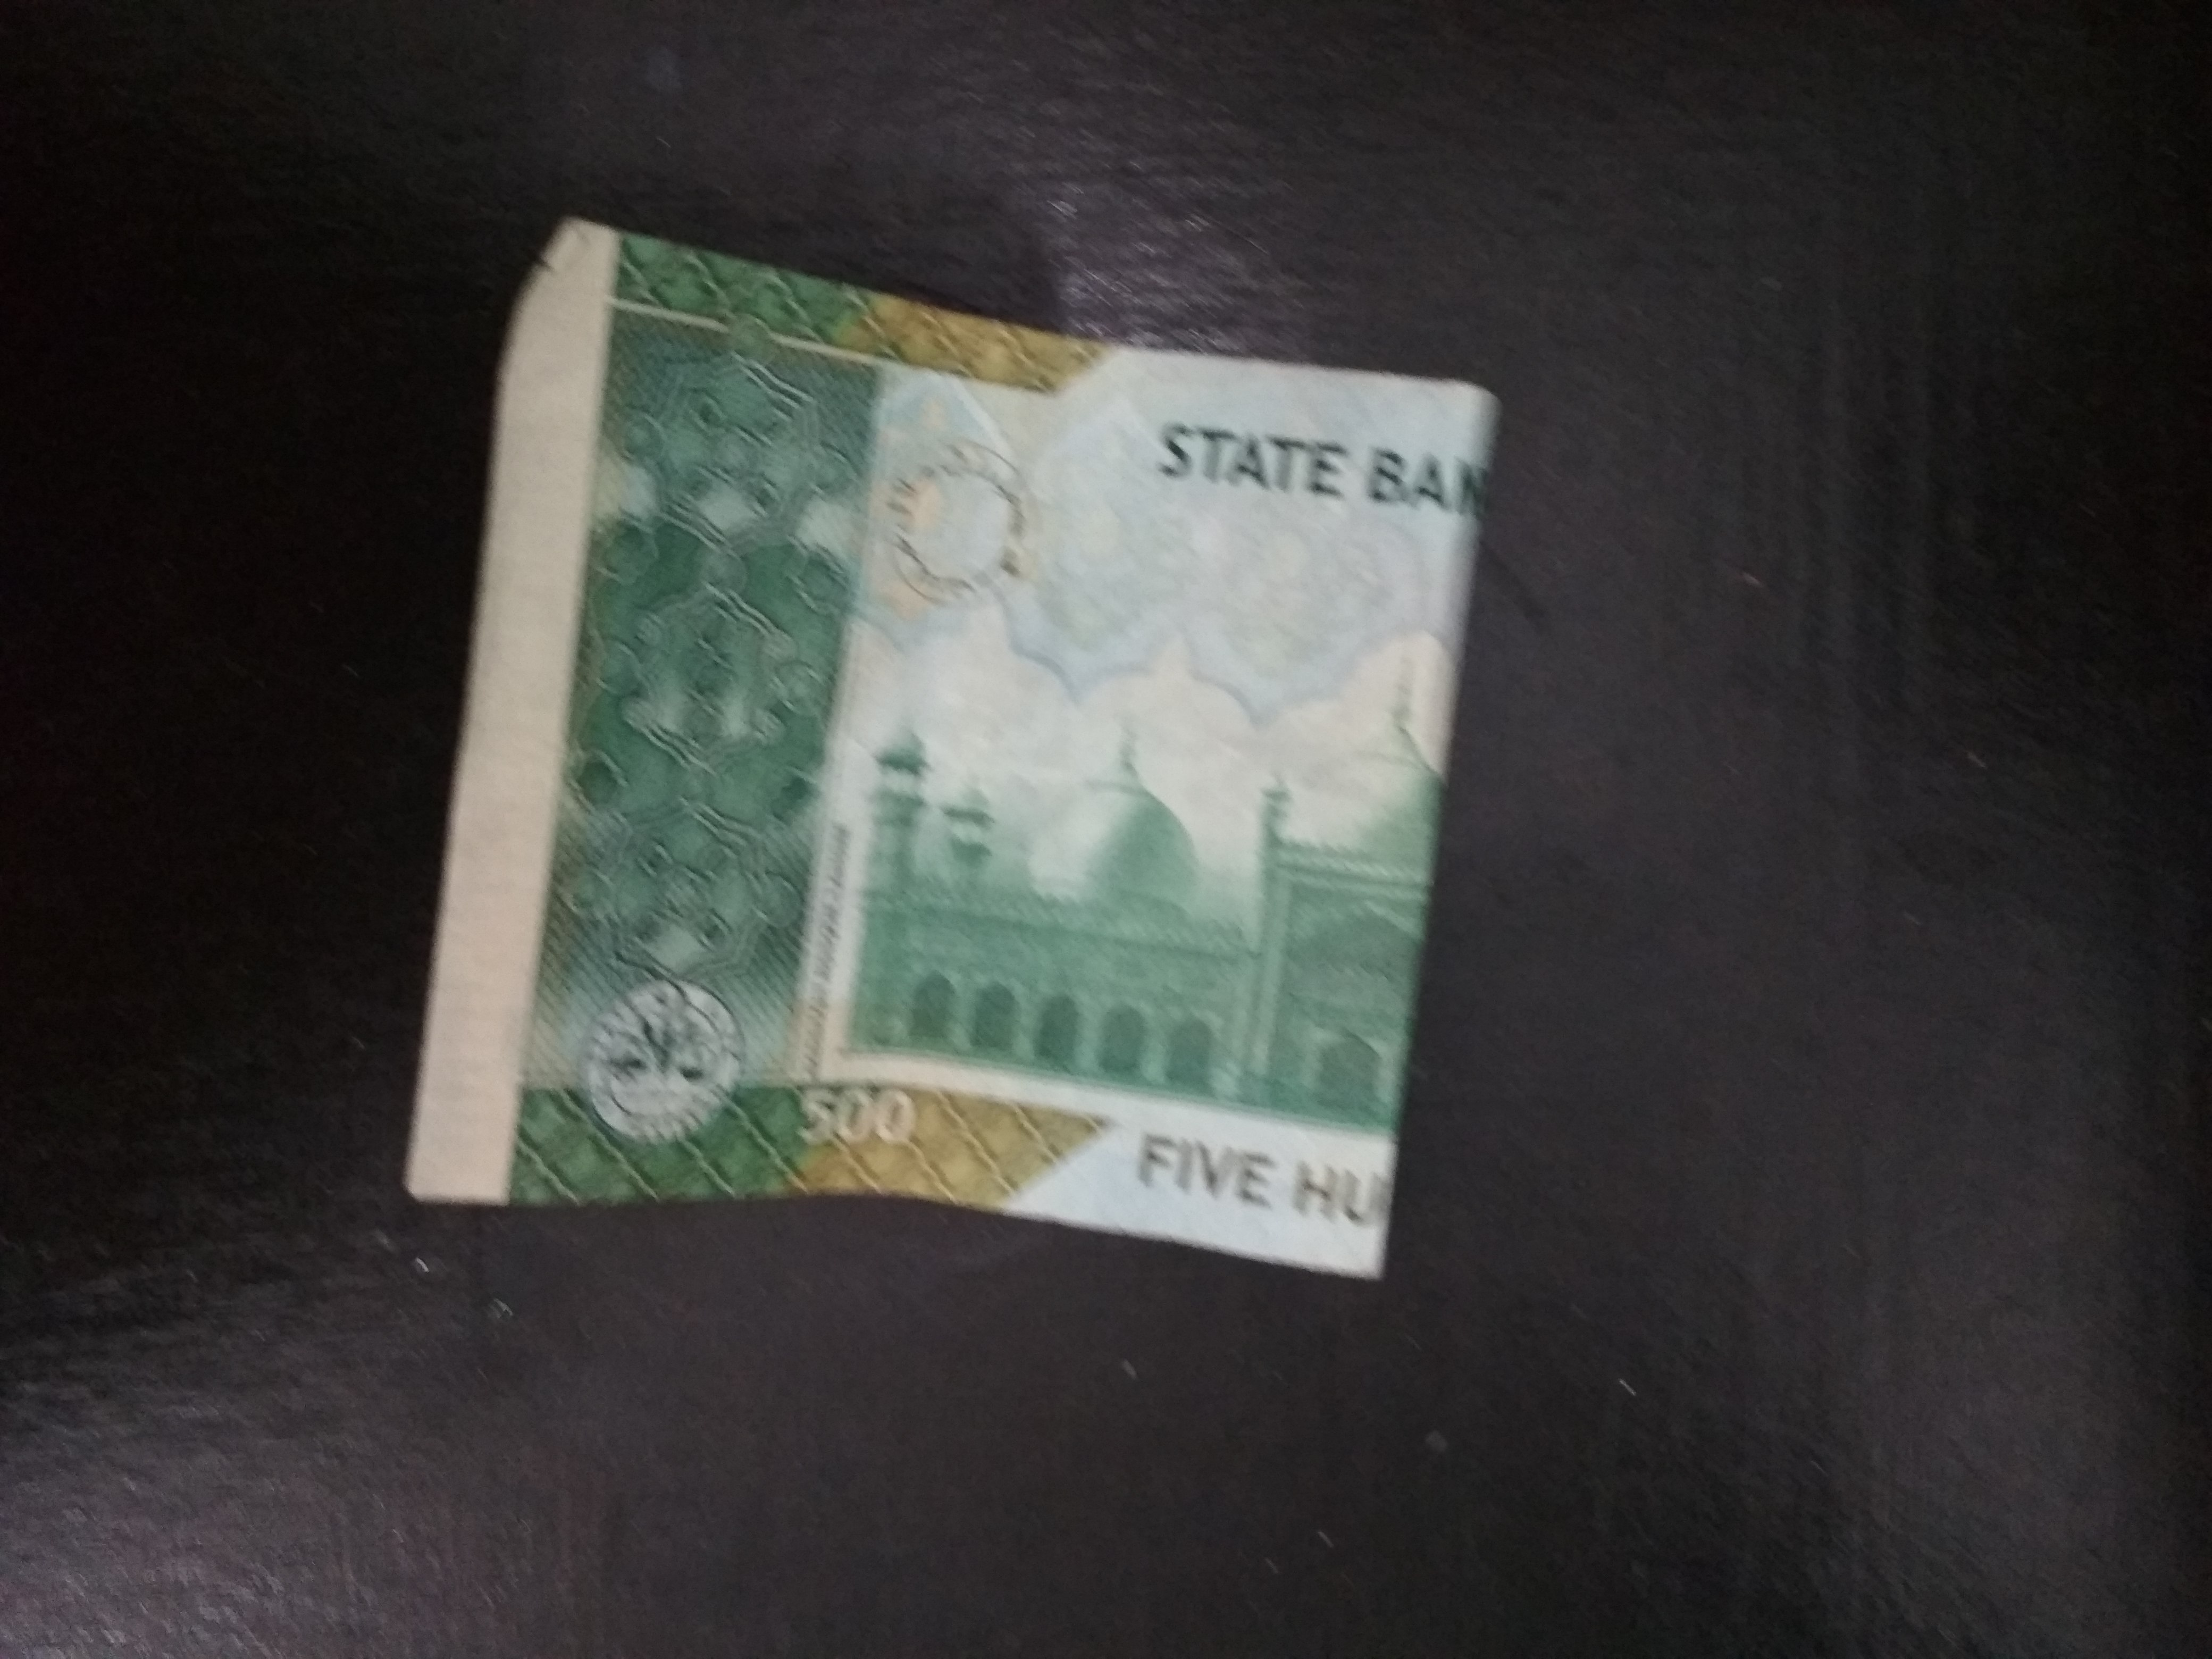500 rupee: (284, 204, 1569, 1490)
